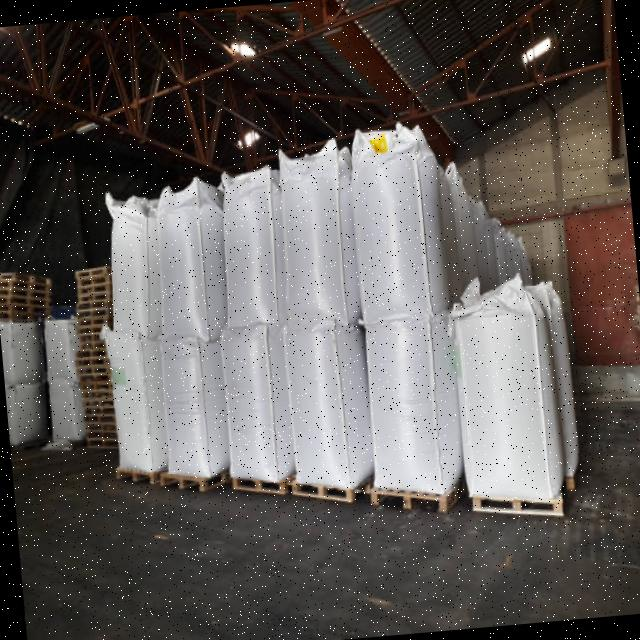Wooden-Pallets: (459, 483, 570, 524), (366, 474, 451, 524), (149, 464, 213, 518), (291, 466, 357, 512), (102, 460, 161, 498), (227, 469, 291, 504), (70, 262, 110, 288)
